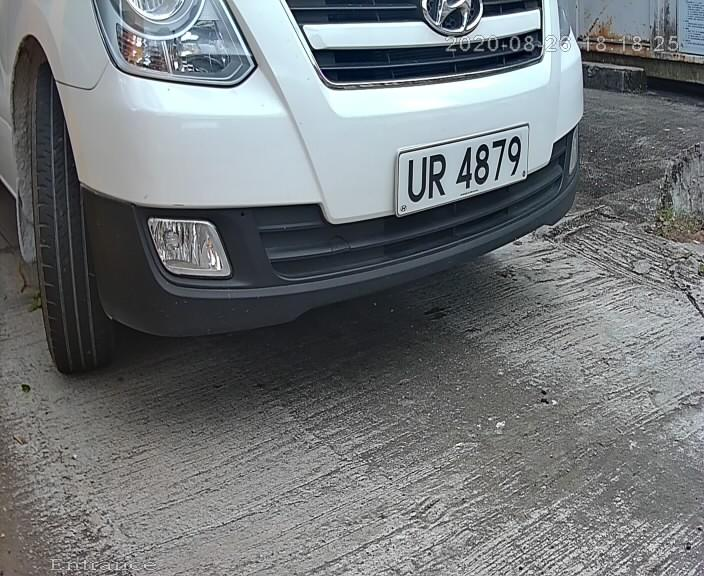License Plate: (381, 114, 544, 219)
